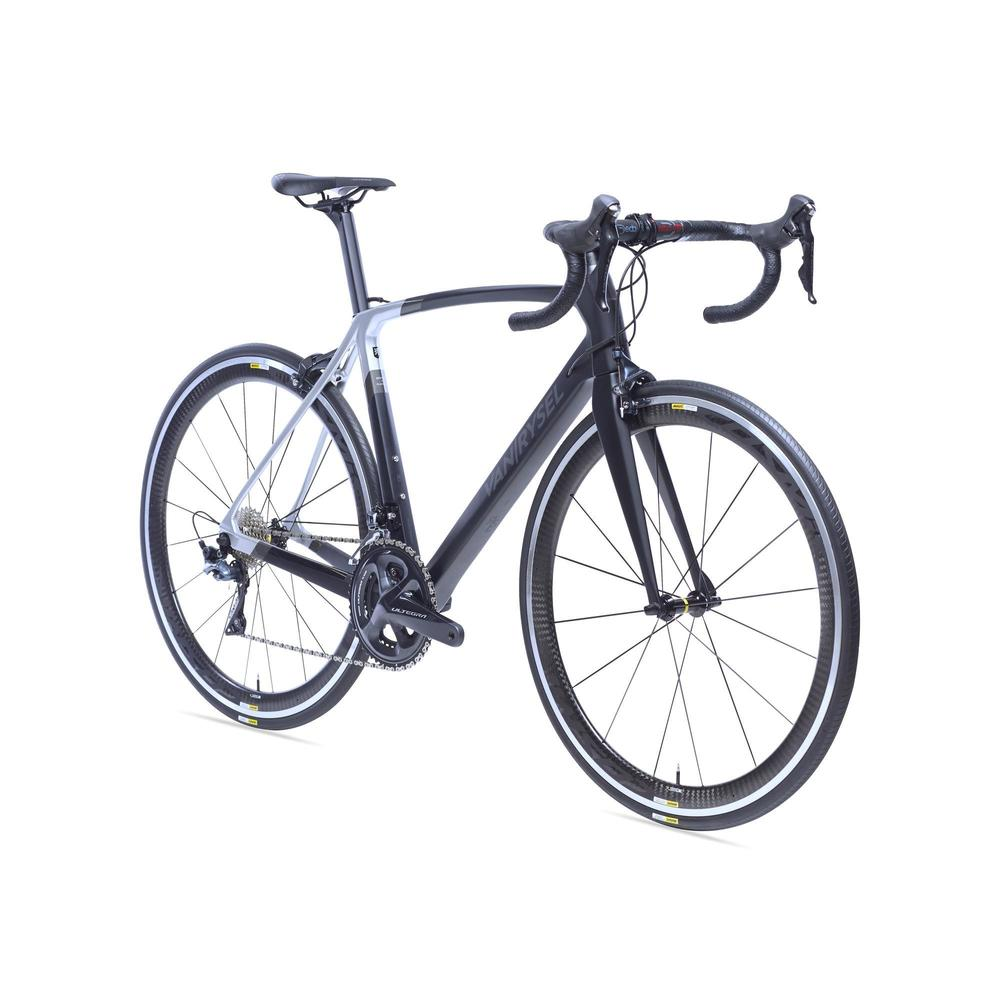RoadBike: (148, 171, 860, 840)
